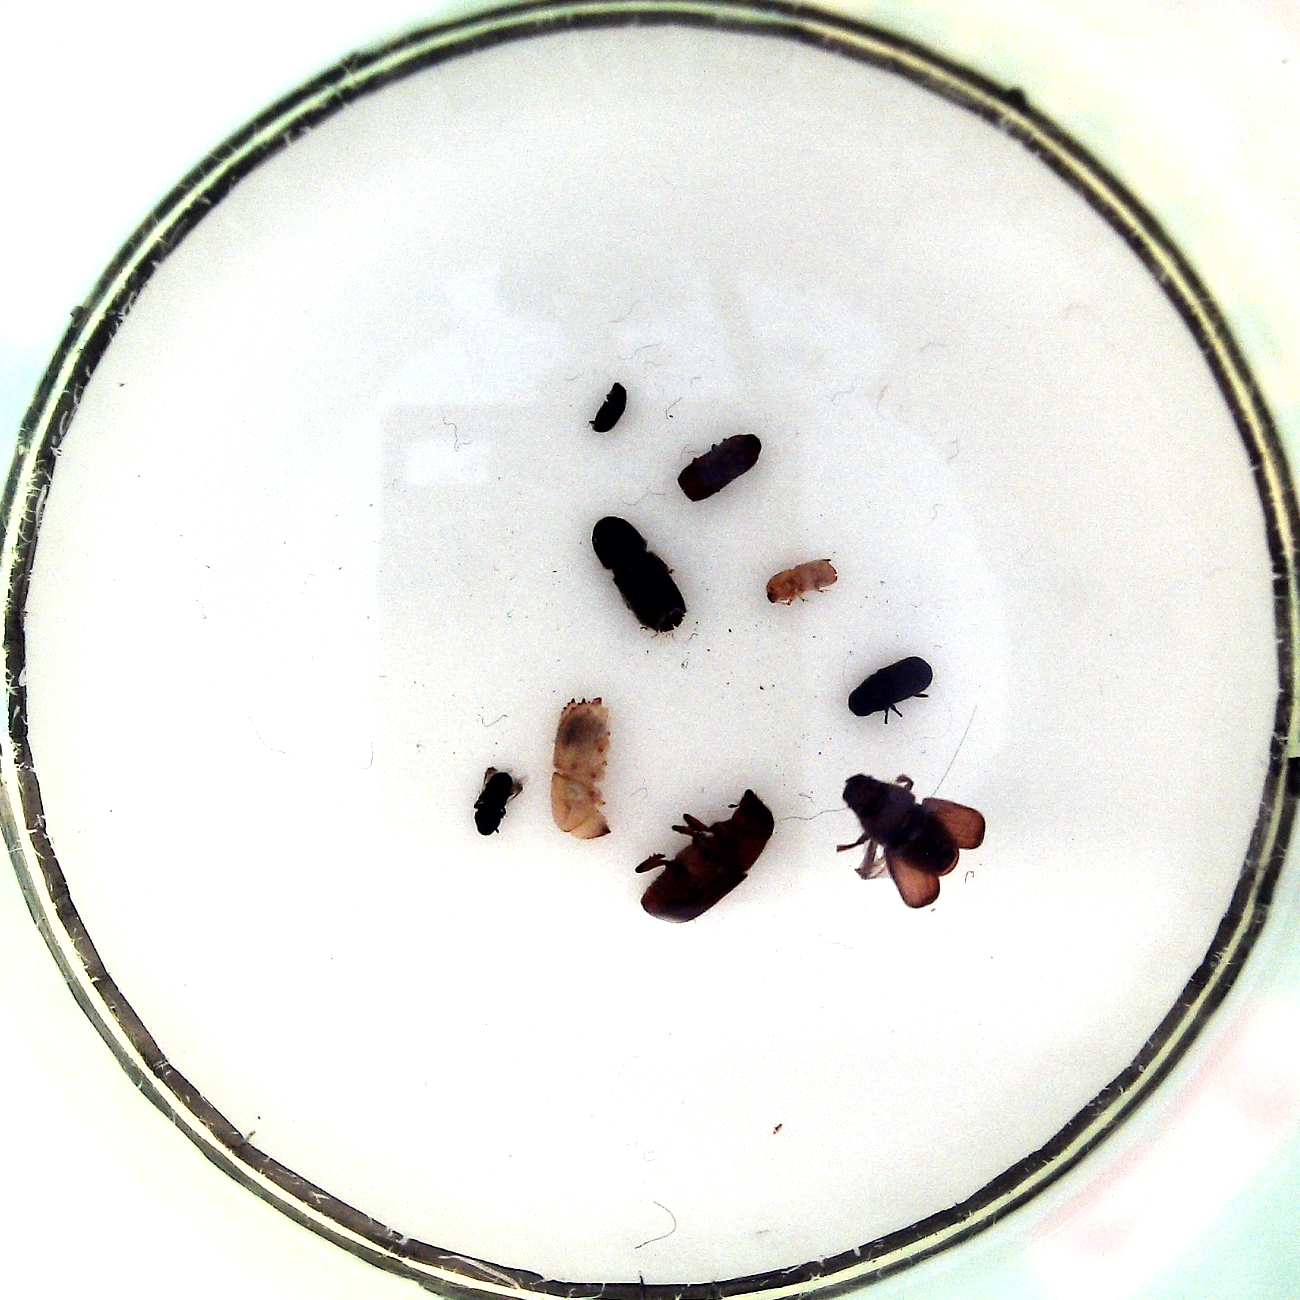Boerner: (542, 692, 627, 843)
Leconte: (835, 765, 993, 913), (629, 780, 783, 929), (586, 508, 690, 640)
Linnaeus: (671, 430, 765, 507)
acuminatus: (761, 556, 837, 610)
armandi: (845, 654, 935, 726)
coleoptera: (468, 760, 529, 843), (589, 377, 630, 436)
